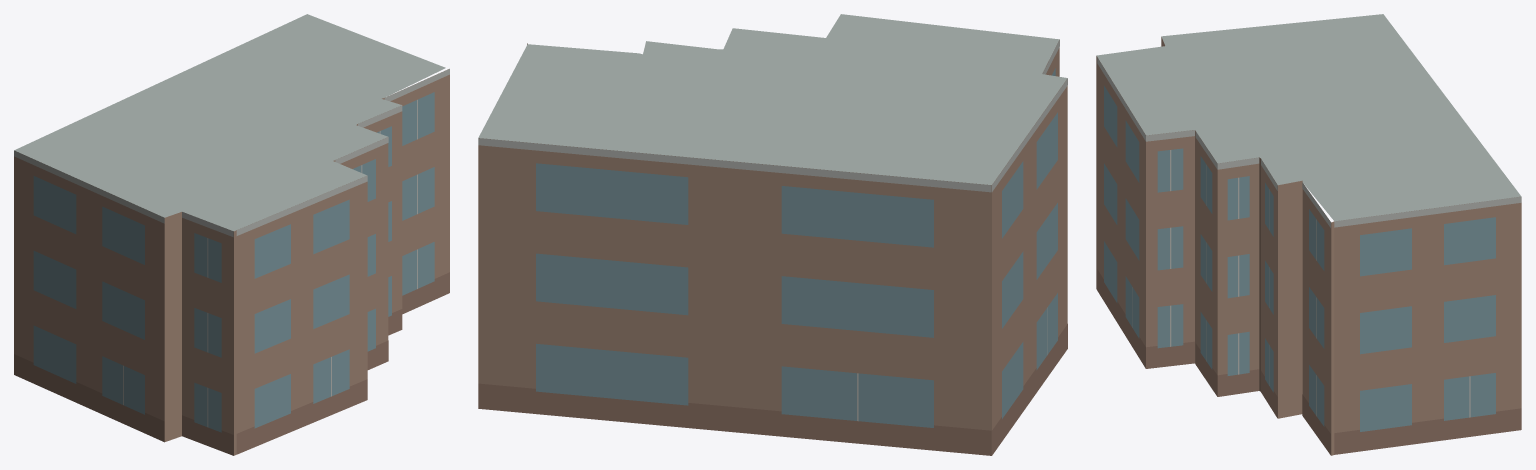
The model's file is survey-upis-32489005.glb.
3 views of the same model, side by side, from view 1: azimuth 30°, elevation 25°; view 2: azimuth 150°, elevation 25°; view 3: azimuth 270°, elevation 25° (orthographic). The views are drawn at different scales.
Parts seen in each view (by area): view 1: survey-upis-32489005.tmp; view 2: survey-upis-32489005.tmp; view 3: survey-upis-32489005.tmp.
Boxes of the visible parts, x1,y1,x2,y2 form: survey-upis-32489005.tmp: [14, 14, 449, 455]; survey-upis-32489005.tmp: [478, 14, 1067, 455]; survey-upis-32489005.tmp: [1096, 14, 1521, 455].
Size of the model in its own units: 17.43 by 9.1 by 15.02.
